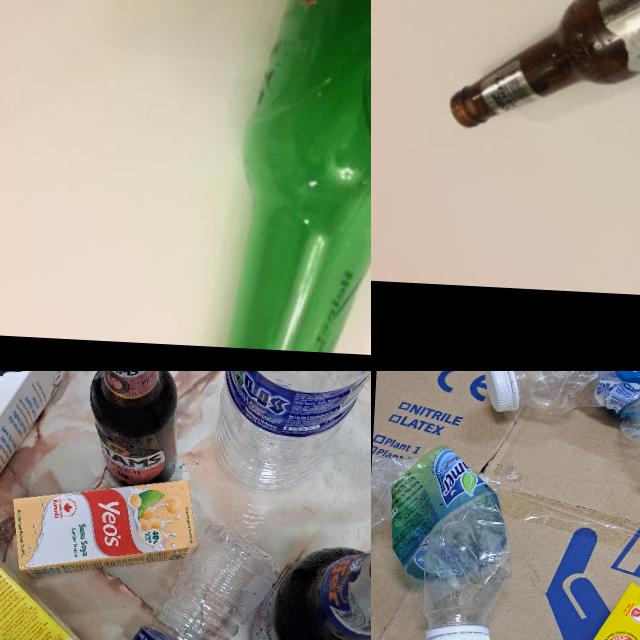caixinha: (10, 465, 202, 580), (0, 371, 94, 573), (0, 533, 104, 640)
garrafa de vidro: (224, 0, 371, 361), (450, 0, 640, 144), (248, 528, 371, 640), (83, 371, 193, 489)
garrafa plástica: (371, 443, 518, 631), (75, 512, 285, 640), (216, 371, 371, 500), (508, 371, 640, 495)
papelão: (371, 371, 640, 640)
tampa plástica: (483, 371, 519, 413), (423, 628, 492, 640)
